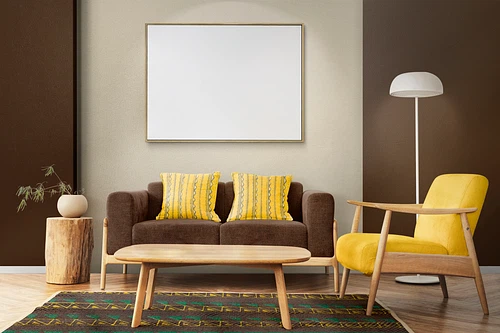chair: (333, 172, 491, 320)
floor lamp: (389, 69, 444, 285)
side table: (41, 214, 96, 287)
sofa: (96, 170, 340, 293)
table: (113, 241, 312, 321)
wall art: (142, 21, 306, 145)
